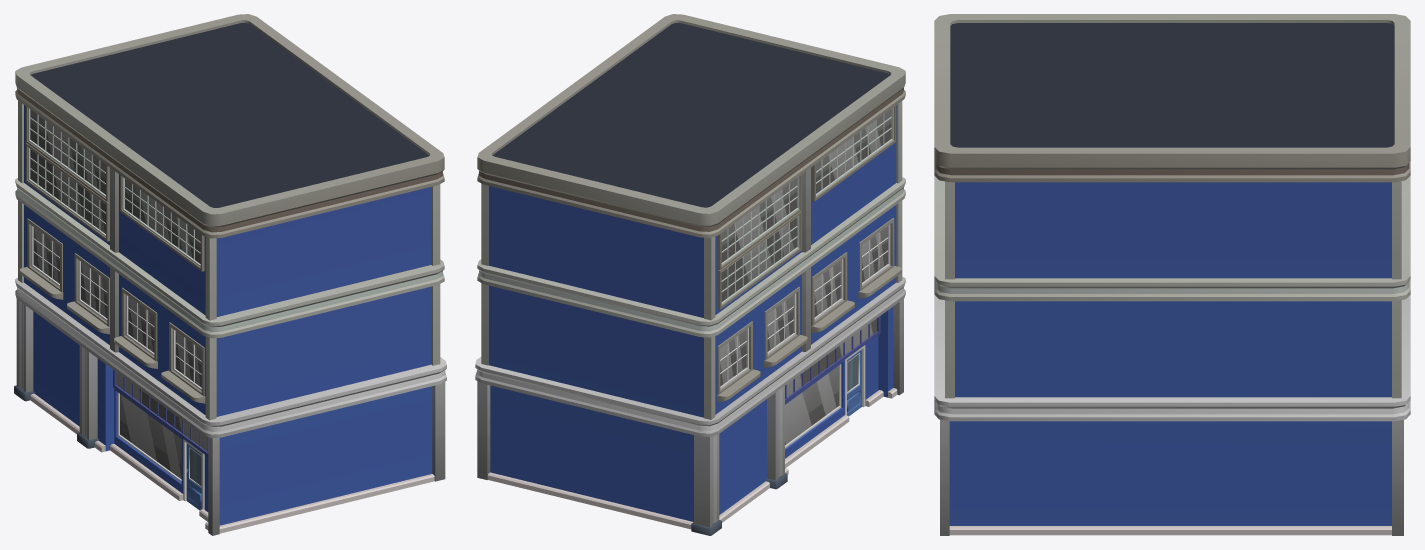
File: Building_11_1_F.fbx
The picture shows the model from 3 angles, left to right: view 1: azimuth 30°, elevation 25°; view 2: azimuth 150°, elevation 25°; view 3: azimuth 270°, elevation 25°; orthographic projection. The views are drawn at different scales.
Visible parts, largest first — view 1: Building_11_1_F; view 2: Building_11_1_F; view 3: Building_11_1_F.
Boxes of the visible parts, bbox=[...] form: Building_11_1_F: bbox=[14, 14, 446, 535]; Building_11_1_F: bbox=[475, 14, 905, 535]; Building_11_1_F: bbox=[934, 14, 1410, 535].
Size of the model in its own units: 827 by 1034 by 1163.
